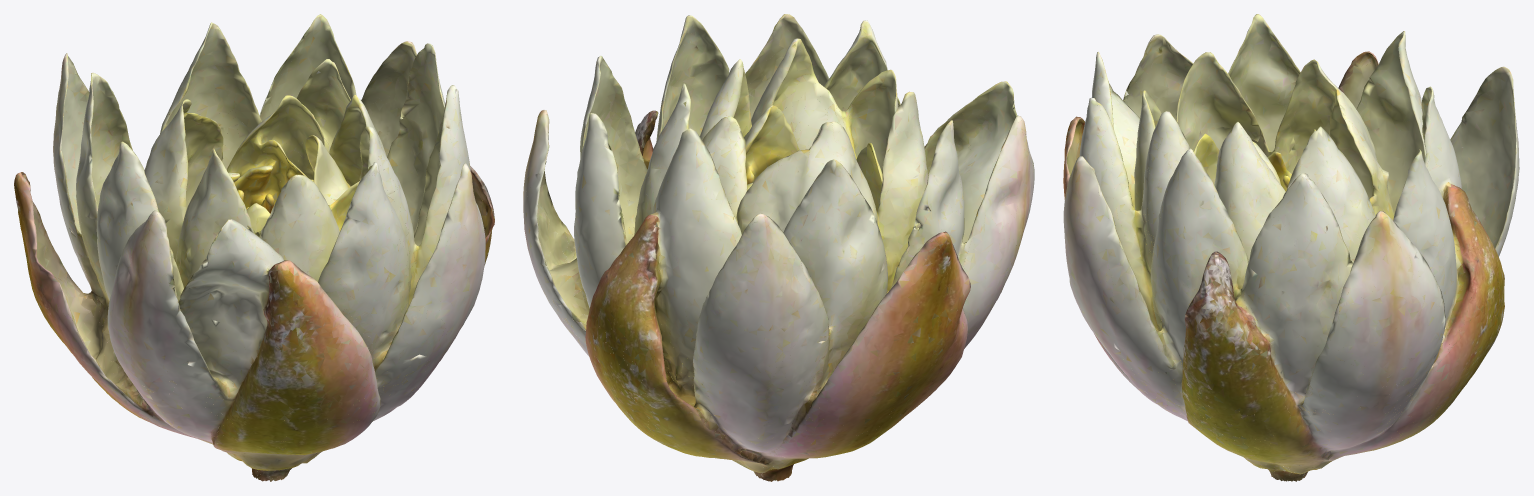
Rendered from water-lily.glb.
3 views of the same model, side by side, from view 1: azimuth 30°, elevation 25°; view 2: azimuth 150°, elevation 25°; view 3: azimuth 270°, elevation 25° (orthographic).
Parts seen in each view (by area): view 1: Object_6; view 2: Object_6; view 3: Object_6.
Boxes of the visible parts, box(x1,y1,x2,y2) form: Object_6: box(14, 14, 494, 481); Object_6: box(523, 14, 1034, 481); Object_6: box(1063, 14, 1519, 481).
Size of the model in its own units: 1.13 by 1.01 by 1.06.
3 materials, 3 textured.
